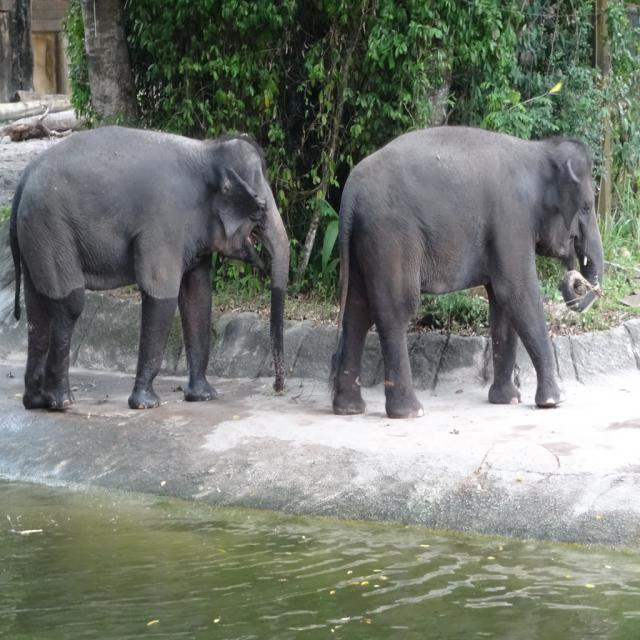Elephant: (332, 125, 604, 418), (8, 133, 292, 411)
